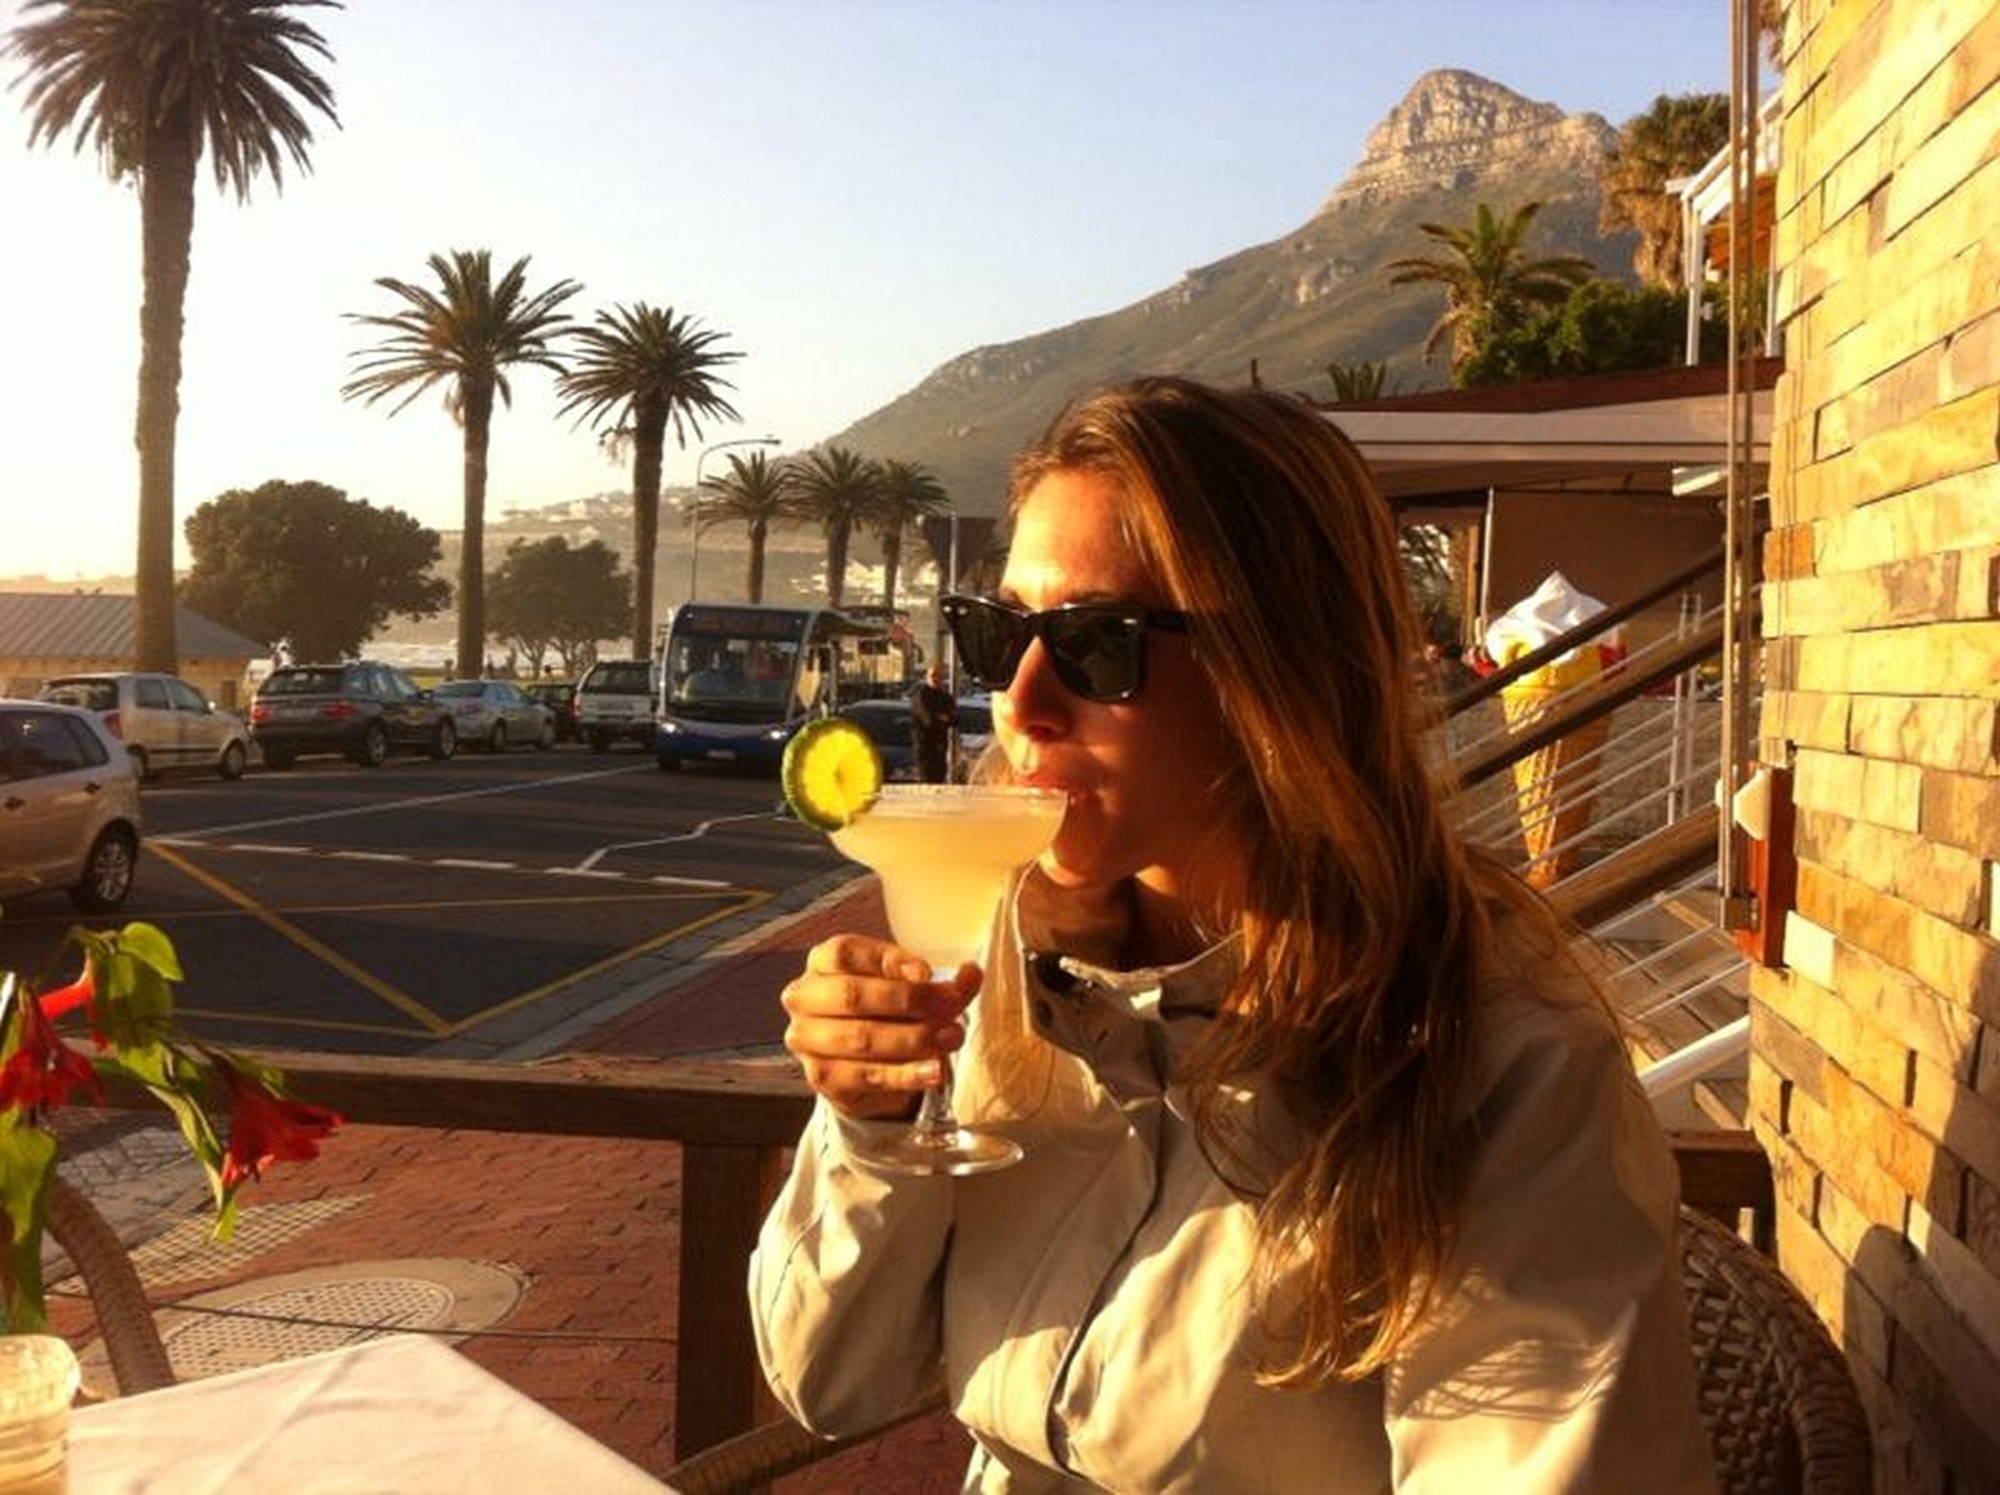face_no_mask: (958, 428, 1319, 903)
